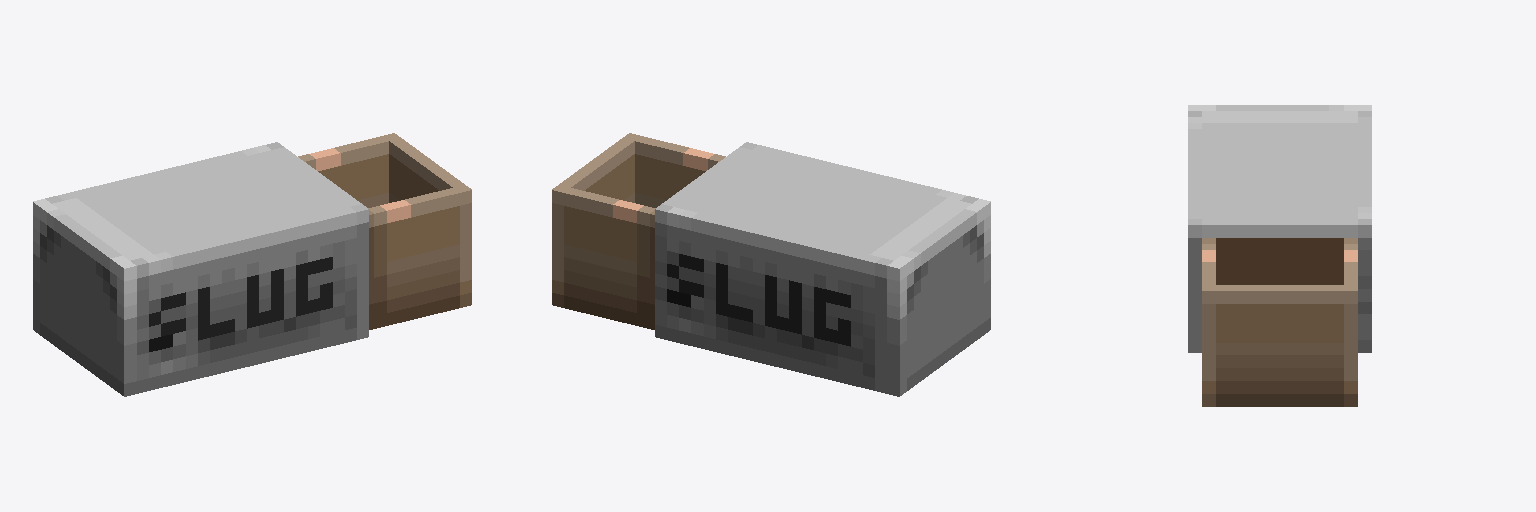
The picture shows the model from 3 angles: view 1: azimuth 30°, elevation 25°; view 2: azimuth 150°, elevation 25°; view 3: azimuth 270°, elevation 25°; orthographic projection.
Visible parts, largest first — view 1: object 1; view 2: object 1; view 3: object 1.
Boxes of the visible parts, x1,y1,x2,y2 form: object 1: [33, 133, 471, 396]; object 1: [552, 133, 990, 396]; object 1: [1188, 105, 1371, 406].
Bounding box in the file's own units: 2.9 × 1 × 1.3.
1 materials, 1 textured.